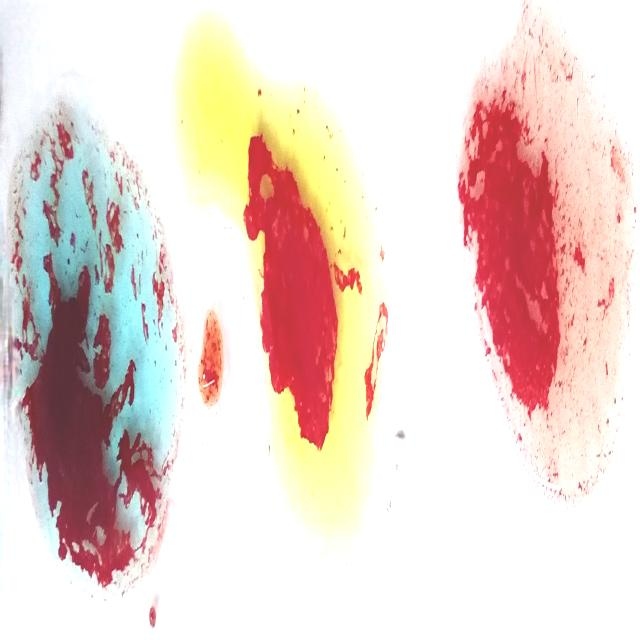A: (6, 140, 178, 596)
B: (232, 78, 388, 520)
D: (476, 14, 618, 494)
